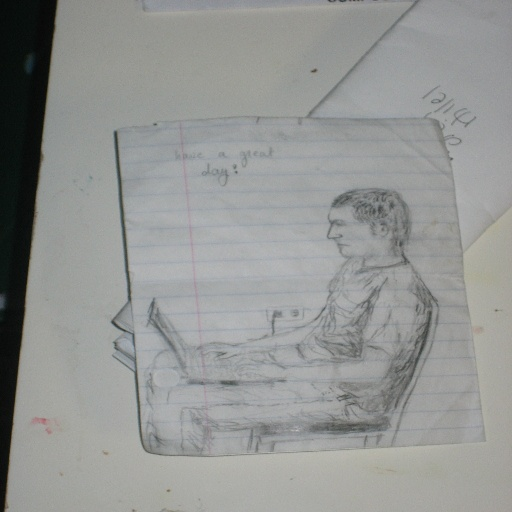hand: (233, 356, 288, 379), (190, 341, 246, 359)
